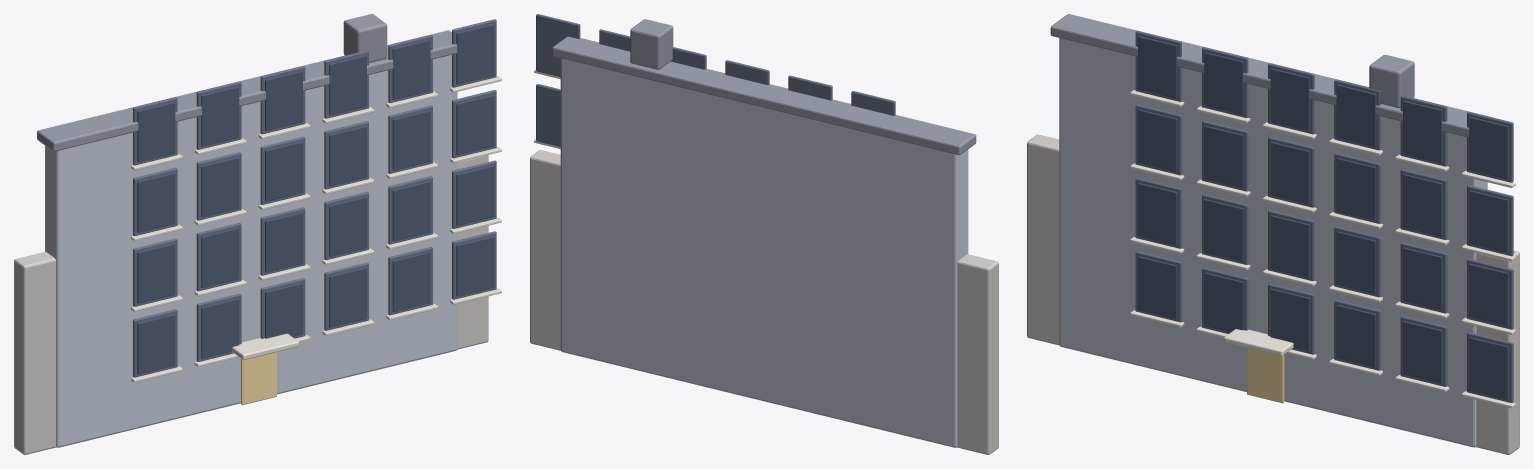
File: dorm_facade.glb
3 views of the same model, side by side, from view 1: azimuth 30°, elevation 25°; view 2: azimuth 150°, elevation 25°; view 3: azimuth 330°, elevation 25° (orthographic). The views are drawn at different scales.
Visible parts, largest first — view 1: Dorm_Wall, Dorm_Wing_L, Dorm_Roof, Window_Glass_0_4, Window_Glass_1_0, Window_Glass_1_4, Window_Glass_0_0, Window_Glass_0_5, Window_Glass_1_5, Window_Glass_2_0, Window_Glass_2_1, Window_Glass_2_4 (+43 smaller); view 2: Dorm_Wall, Dorm_Roof, Dorm_Wing_L, Dorm_Wing_R, Water_Tank, Window_Frame_3_5, Window_Frame_2_5, Window_Frame_3_1, Window_Frame_3_0, Window_Frame_3_2, Window_Frame_3_3, Window_Frame_3_4; view 3: Dorm_Wall, Dorm_Wing_L, Dorm_Roof, Dorm_Wing_R, Window_Glass_0_3, Window_Glass_1_3, Window_Glass_2_3, Window_Glass_3_3, Window_Glass_1_1, Window_Glass_0_4, Window_Glass_0_5, Window_Glass_1_4 (+43 smaller).
Part boxes in pixels (bbox=[...]): Dorm_Wall: bbox=[45, 55, 457, 447]; Dorm_Wing_L: bbox=[14, 252, 56, 454]; Dorm_Roof: bbox=[37, 30, 457, 151]; Window_Glass_0_4: bbox=[392, 252, 430, 311]; Window_Glass_1_0: bbox=[137, 243, 175, 303]; Window_Glass_1_4: bbox=[392, 181, 430, 241]; Window_Glass_0_0: bbox=[137, 314, 175, 374]; Window_Glass_0_5: bbox=[456, 236, 494, 296]; Window_Glass_1_5: bbox=[456, 165, 494, 225]; Window_Glass_2_0: bbox=[137, 172, 175, 232]; Window_Glass_2_1: bbox=[201, 157, 239, 217]; Window_Glass_2_4: bbox=[392, 110, 430, 170]; Dorm_Wall: bbox=[560, 58, 968, 447]; Dorm_Roof: bbox=[552, 36, 976, 155]; Dorm_Wing_L: bbox=[957, 254, 998, 454]; Dorm_Wing_R: bbox=[530, 150, 560, 350]; Water_Tank: bbox=[630, 19, 673, 69]; Window_Frame_3_5: bbox=[536, 14, 580, 77]; Window_Frame_2_5: bbox=[536, 84, 560, 146]; Window_Frame_3_1: bbox=[788, 75, 832, 100]; Window_Frame_3_0: bbox=[851, 91, 895, 115]; Window_Frame_3_2: bbox=[725, 60, 769, 84]; Window_Frame_3_3: bbox=[671, 47, 706, 69]; Window_Frame_3_4: bbox=[599, 29, 630, 51]; Dorm_Wall: bbox=[1059, 38, 1487, 447]; Dorm_Wing_L: bbox=[1027, 134, 1059, 345]; Dorm_Roof: bbox=[1050, 14, 1494, 137]; Dorm_Wing_R: bbox=[1476, 250, 1519, 454]; Window_Glass_0_3: bbox=[1336, 305, 1376, 367]; Window_Glass_1_3: bbox=[1336, 231, 1376, 293]; Window_Glass_2_3: bbox=[1336, 158, 1376, 220]; Window_Glass_3_3: bbox=[1336, 84, 1376, 146]; Window_Glass_1_1: bbox=[1204, 199, 1243, 261]; Window_Glass_0_4: bbox=[1403, 321, 1442, 383]; Window_Glass_0_5: bbox=[1469, 337, 1508, 399]; Window_Glass_1_4: bbox=[1403, 247, 1442, 309].
Size of the model in its own units: 25.2 by 17.6 by 2.65.
